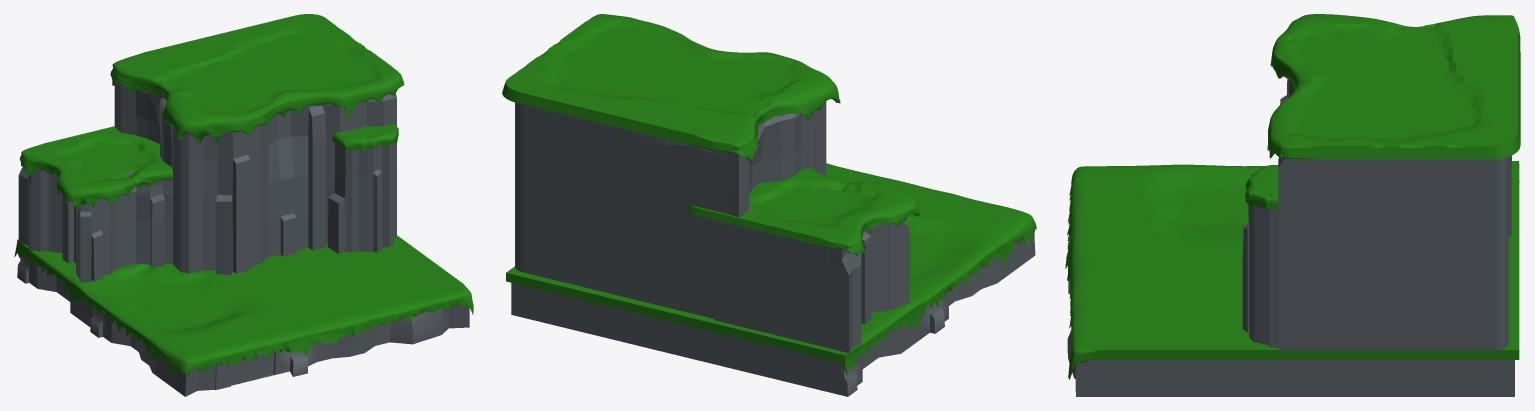
File: iSLANDRAGGGG.fbx
3 views of the same model, side by side, from view 1: azimuth 30°, elevation 25°; view 2: azimuth 150°, elevation 25°; view 3: azimuth 270°, elevation 25° (orthographic). The views are drawn at different scales.
Visible parts, largest first — view 1: Cube.007, Cube, Cube.004, Cube.003, Cube.002, Cube.005; view 2: Cube, Cube.007, Cube.004, Cube.003, Cube.005; view 3: Cube.007, Cube, Cube.004, Cube.002.
Part boxes in pixels (left/top/right/bottom): Cube.007: left=14, top=235, right=473, bottom=396; Cube: left=114, top=83, right=396, bottom=275; Cube.004: left=110, top=14, right=404, bottom=143; Cube.003: left=18, top=166, right=172, bottom=282; Cube.002: left=327, top=124, right=398, bottom=253; Cube.005: left=20, top=126, right=173, bottom=210; Cube: left=515, top=101, right=826, bottom=318; Cube.007: left=506, top=163, right=1036, bottom=396; Cube.004: left=502, top=14, right=840, bottom=161; Cube.003: left=714, top=188, right=909, bottom=353; Cube.005: left=687, top=168, right=920, bottom=255; Cube.007: left=1065, top=161, right=1519, bottom=396; Cube: left=1278, top=78, right=1508, bottom=350; Cube.004: left=1267, top=14, right=1520, bottom=159; Cube.002: left=1242, top=165, right=1278, bottom=347.
Bounding box in the file's own units: 2165 × 1323 × 2073.
